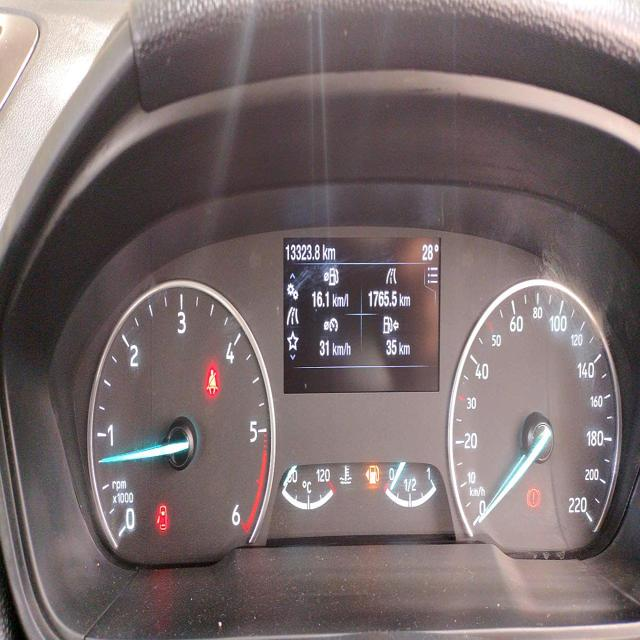odometer: (285, 242, 320, 261)
